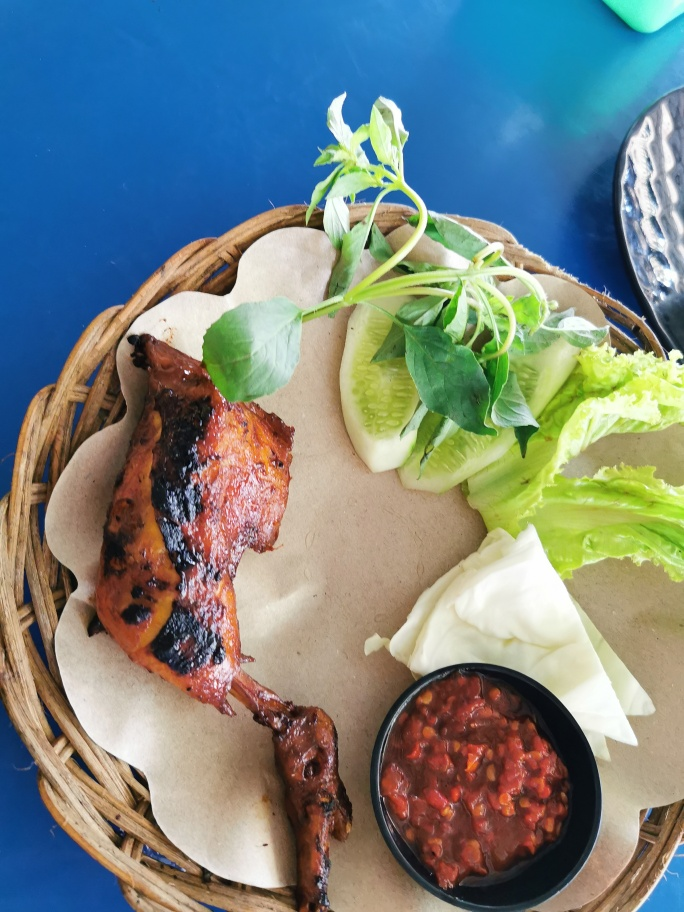ayam bakar: (77, 329, 375, 912)
